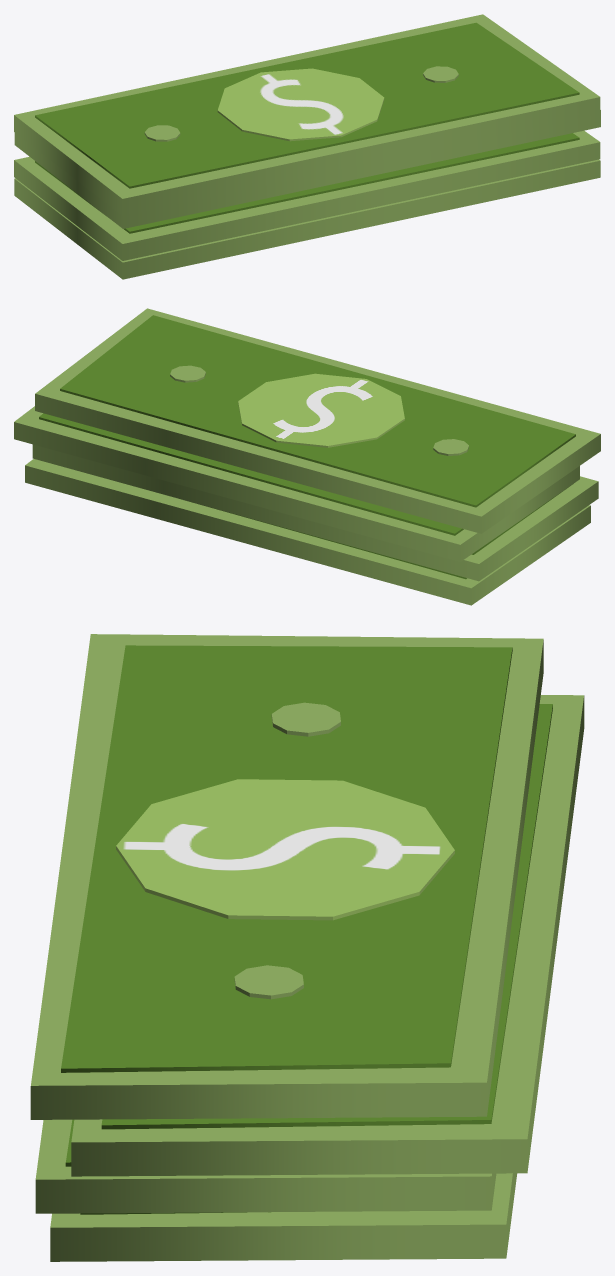
Rendered from Dolar_oyun.fbx.
The picture shows the model from 3 angles, top to bottom: view 1: azimuth 30°, elevation 25°; view 2: azimuth 150°, elevation 25°; view 3: azimuth 270°, elevation 25°; orthographic projection. The views are drawn at different scales.
Visible parts, largest first — view 1: pasted__Curve (×3), pasted__Curve1 (×2), Curve, pasted__pCylinder1, pasted__pCylinder3, pasted__pCylinder2; view 2: pasted__Curve (×3), pasted__Curve1 (×2), Curve, pasted__pCylinder1, pasted__pCylinder2, pasted__pCylinder3; view 3: pasted__Curve1 (×2), pasted__Curve (×3), pasted__pCylinder1, Curve, pasted__pCylinder2, pasted__pCylinder3.
Part boxes in pixels (box(x1,y1,x2,y2)): pasted__Curve (×3): box(14, 14, 600, 260); pasted__Curve1 (×2): box(35, 22, 579, 233); Curve: box(14, 159, 600, 279); pasted__pCylinder1: box(217, 68, 384, 141); pasted__pCylinder3: box(144, 125, 180, 141); pasted__pCylinder2: box(423, 66, 458, 82); pasted__Curve (×3): box(14, 308, 600, 581); pasted__Curve1 (×2): box(39, 315, 575, 535); Curve: box(25, 459, 590, 605); pasted__pCylinder1: box(238, 373, 404, 447); pasted__pCylinder2: box(170, 365, 205, 382); pasted__pCylinder3: box(433, 439, 468, 455); pasted__Curve1 (×2): box(61, 645, 552, 1129); pasted__Curve (×3): box(30, 634, 584, 1213); pasted__pCylinder1: box(116, 779, 454, 920); Curve: box(50, 1173, 517, 1261); pasted__pCylinder2: box(234, 965, 303, 999); pasted__pCylinder3: box(271, 702, 340, 736).
Bounding box in the file's own units: 35.45 × 6.54 × 17.93.
Materials: 6 (2 with a texture image).
